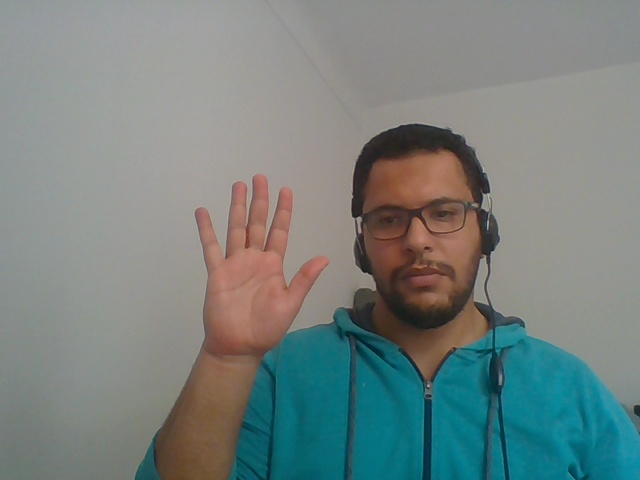hello: (168, 155, 336, 424)
